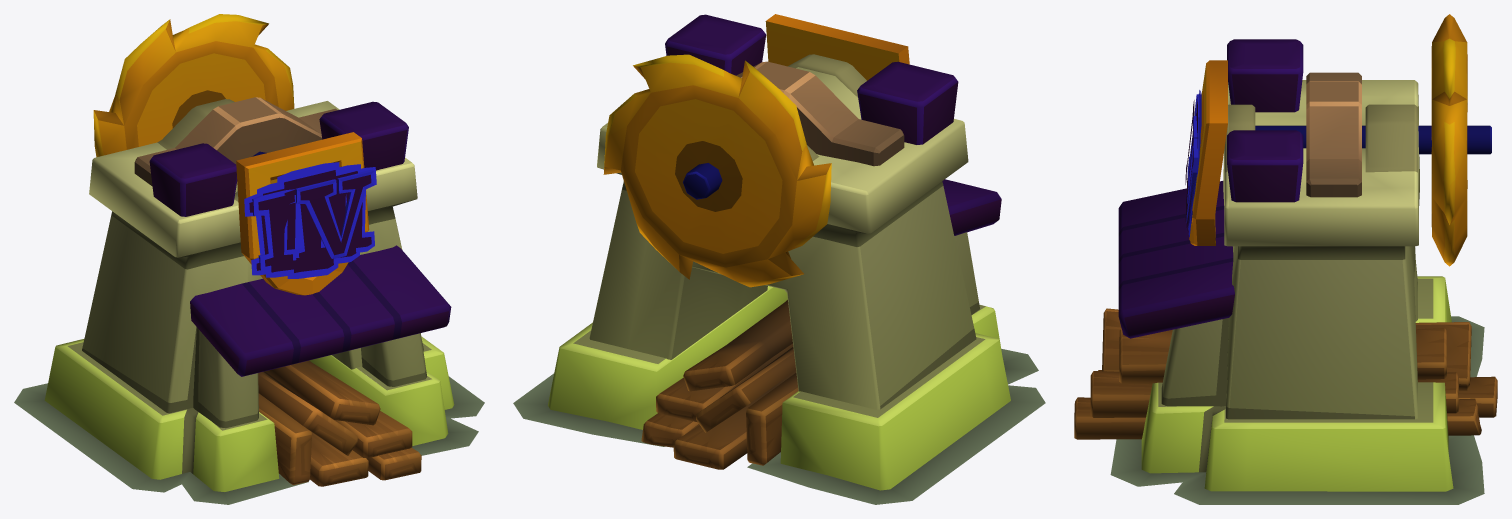
The model's file is WoodMilRework.fbx.
The picture shows the model from 3 angles, left to right: view 1: azimuth 30°, elevation 25°; view 2: azimuth 150°, elevation 25°; view 3: azimuth 270°, elevation 25°; orthographic projection. The views are drawn at different scales.
Parts seen in each view (by area): view 1: Woodmill_Rework_T1, Woodmill_Rework_T4, Woodmill_Rework_T2, Woodmill_Rework_T3; view 2: Woodmill_Rework_T1; view 3: Woodmill_Rework_T1, Woodmill_Rework_T4.
Boxes of the visible parts, x1,y1,x2,y2 form: Woodmill_Rework_T1: [14, 14, 484, 504]; Woodmill_Rework_T4: [252, 169, 374, 270]; Woodmill_Rework_T2: [257, 164, 360, 277]; Woodmill_Rework_T3: [244, 167, 376, 275]; Woodmill_Rework_T1: [513, 14, 1045, 504]; Woodmill_Rework_T1: [1074, 14, 1497, 504]; Woodmill_Rework_T4: [1185, 94, 1201, 223].
Size of the model in its own units: 1.06 by 1 by 1.
